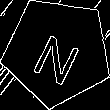N_NE: (28, 20, 87, 83)
